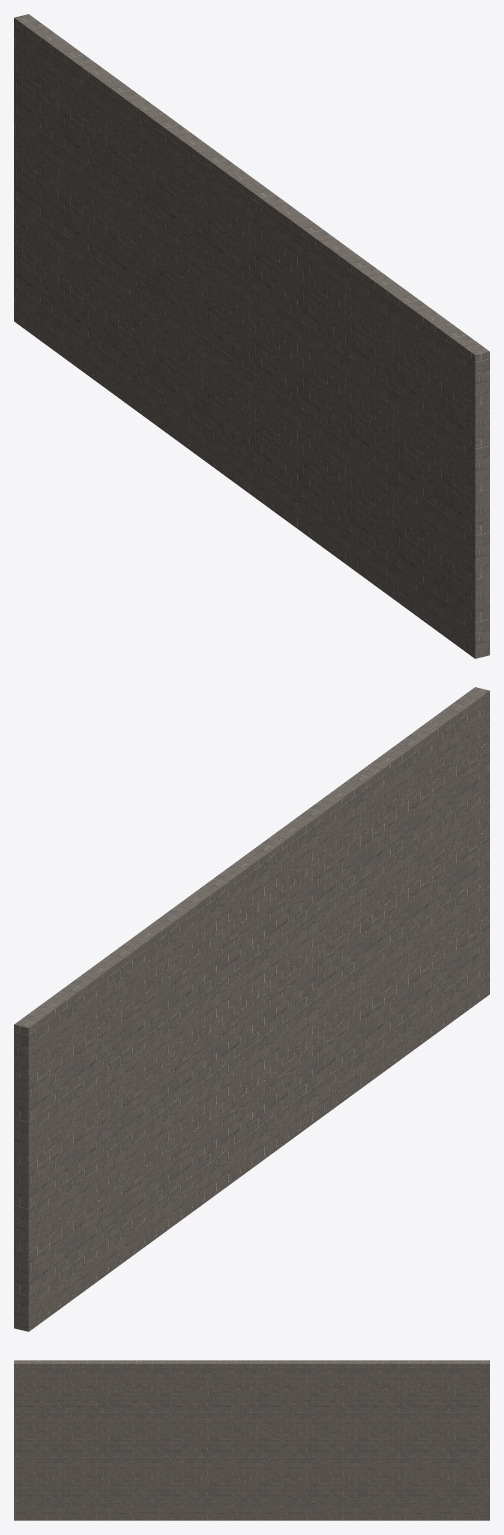
Rendered from souplongwall010.obj.
The picture shows the model from 3 angles, top to bottom: view 1: azimuth 30°, elevation 25°; view 2: azimuth 150°, elevation 25°; view 3: azimuth 270°, elevation 25°; orthographic projection. The views are drawn at different scales.
Parts seen in each view (by area): view 1: souplongwall010_high_1; view 2: souplongwall010_high_1; view 3: souplongwall010_high_1.
Boxes of the visible parts, box(x1,y1,x2,y2) form: souplongwall010_high_1: box(14, 14, 489, 658); souplongwall010_high_1: box(14, 687, 489, 1331); souplongwall010_high_1: box(14, 1360, 489, 1520).
Size of the model in its own units: 0.1504 by 2.95 by 8.11.
